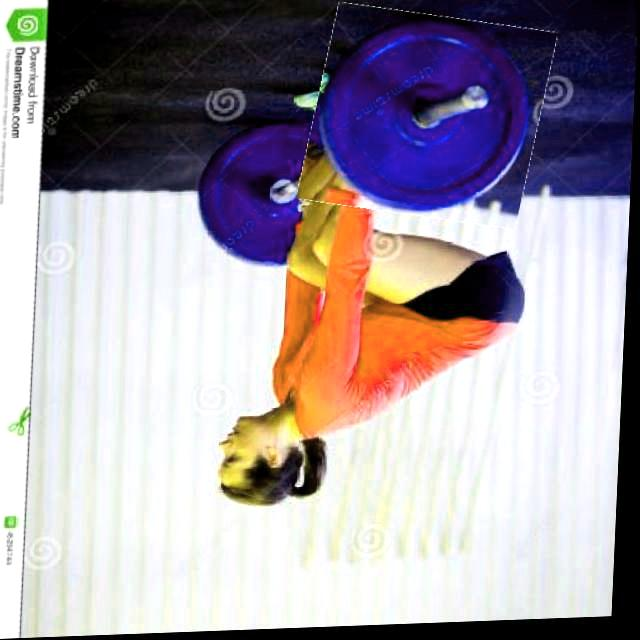barbell: (306, 8, 552, 231)
